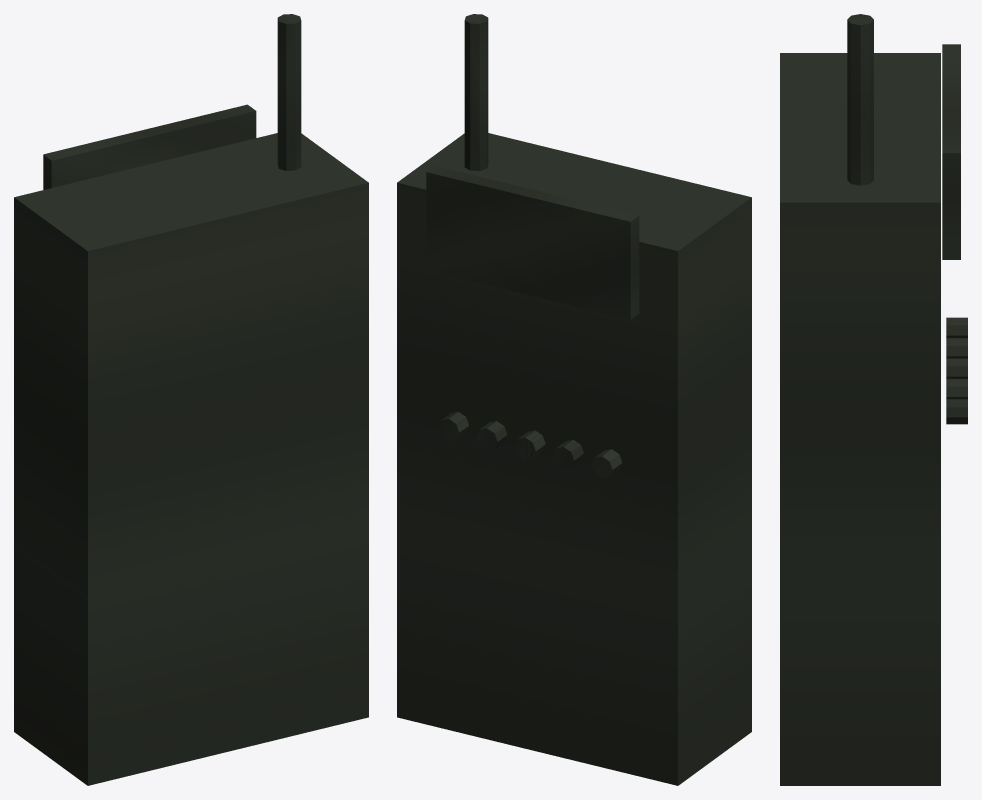
The model's file is prop_radio_transmitter_rack_a.glb.
3 renders of one model, left to right at view 1: azimuth 30°, elevation 25°; view 2: azimuth 150°, elevation 25°; view 3: azimuth 270°, elevation 25°, orthographic. The views are drawn at different scales.
Parts seen in each view (by area): view 1: prop_radio_transmitter_rack_a; view 2: prop_radio_transmitter_rack_a; view 3: prop_radio_transmitter_rack_a.
Part boxes in pixels (x1,y1,x2,y2): prop_radio_transmitter_rack_a: (14, 14, 368, 785); prop_radio_transmitter_rack_a: (397, 14, 751, 785); prop_radio_transmitter_rack_a: (780, 14, 967, 785).
Bounding box in the file's own units: 0.66 × 1.53 × 0.35.
Materials: 1 (1 with a texture image).
